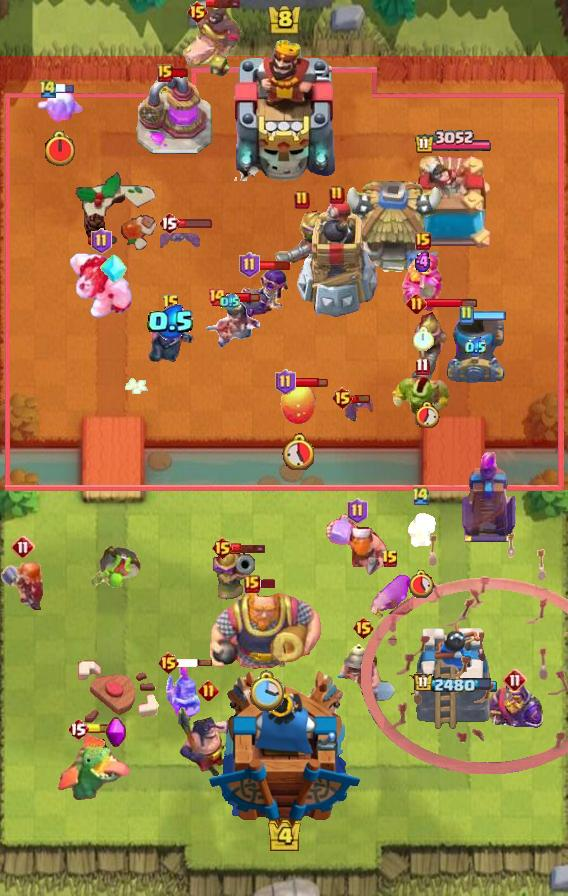bar: (425, 298, 478, 309), (231, 542, 267, 554), (293, 376, 328, 388), (225, 291, 260, 303), (177, 218, 213, 229), (472, 310, 507, 321), (257, 260, 291, 271), (86, 724, 122, 734), (177, 658, 213, 668), (206, 0, 242, 9), (56, 82, 75, 94), (171, 67, 190, 79), (257, 578, 277, 589), (351, 393, 371, 404)
bar-level: (503, 668, 527, 692), (11, 535, 35, 559), (157, 651, 180, 675), (352, 616, 375, 640), (211, 536, 234, 560), (331, 386, 354, 410), (186, 0, 209, 24), (347, 498, 368, 524), (275, 369, 296, 395), (239, 252, 260, 278), (91, 228, 112, 254), (67, 717, 89, 741), (158, 211, 180, 235), (198, 680, 219, 701), (406, 293, 427, 314), (411, 485, 431, 506), (38, 78, 58, 99), (207, 287, 227, 307), (381, 549, 399, 569), (162, 294, 180, 314), (458, 305, 474, 325), (294, 190, 310, 210), (329, 185, 345, 205), (244, 575, 260, 593), (415, 232, 431, 250), (157, 64, 173, 82), (415, 357, 430, 376)
bat: (343, 394, 377, 426), (160, 227, 200, 253)
bomber-evolution: (235, 265, 291, 321)
clock: (248, 670, 284, 713), (43, 130, 77, 168), (282, 433, 314, 470), (407, 569, 435, 598), (416, 401, 440, 428), (413, 327, 434, 351)
elixir: (147, 304, 195, 340), (465, 337, 486, 358), (413, 251, 433, 273), (220, 293, 240, 311)
evolution-symbol: (105, 716, 127, 750)
executioner: (174, 704, 242, 780)
goblin-ball: (89, 544, 143, 592)
goblin-brawler: (392, 373, 452, 427)
guard: (164, 663, 206, 721)
hog: (364, 573, 416, 623)
ice-spirit-evolution: (35, 88, 85, 126)
ice-spirit-evolution-symbol: (100, 251, 128, 285)
king-tower: (207, 669, 362, 826), (228, 35, 340, 181)
knight-evolution: (400, 250, 446, 312), (487, 680, 543, 729)
lumberjack: (325, 514, 389, 578)
miner: (329, 638, 397, 704)
mini-pekka: (146, 316, 196, 370)
mortar: (445, 319, 505, 383)
musketeer: (270, 207, 334, 273), (407, 309, 449, 383), (213, 547, 255, 615)
phoenix-egg: (278, 382, 318, 426)
princess: (199, 302, 261, 354)
queen-tower: (409, 616, 497, 731), (407, 156, 499, 256)
skeleton: (404, 509, 439, 549)
tower-bar: (414, 130, 493, 155), (413, 673, 493, 695)
valkyrie: (0, 562, 48, 612)
